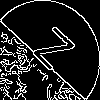Z: (25, 25, 76, 80)
